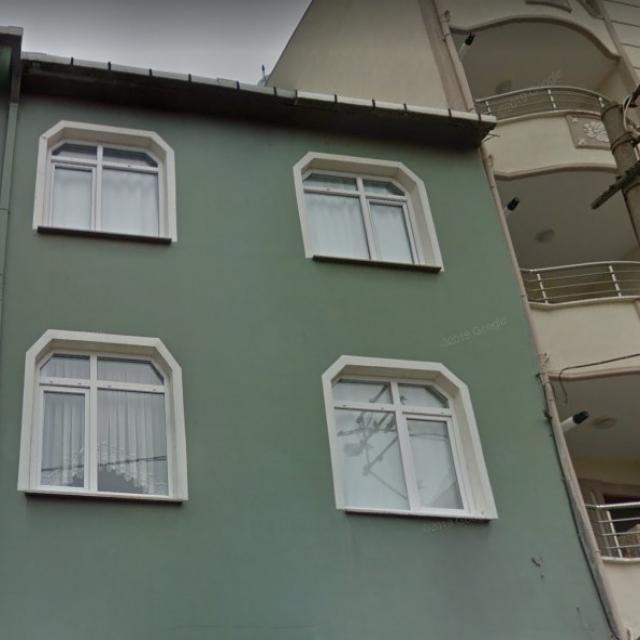Building: (0, 27, 620, 640)
